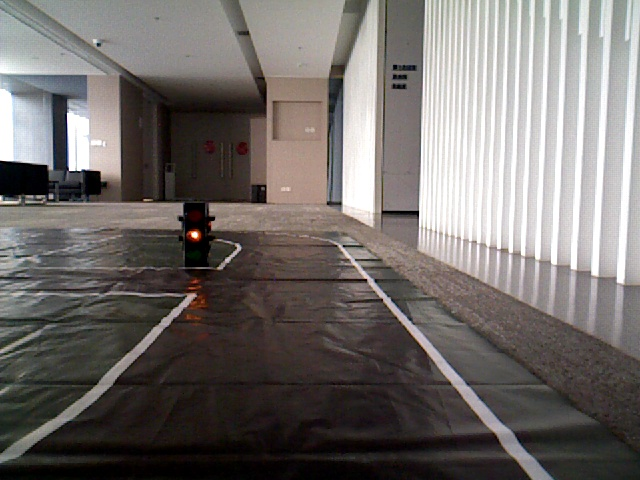yellow: (180, 203, 206, 264)
